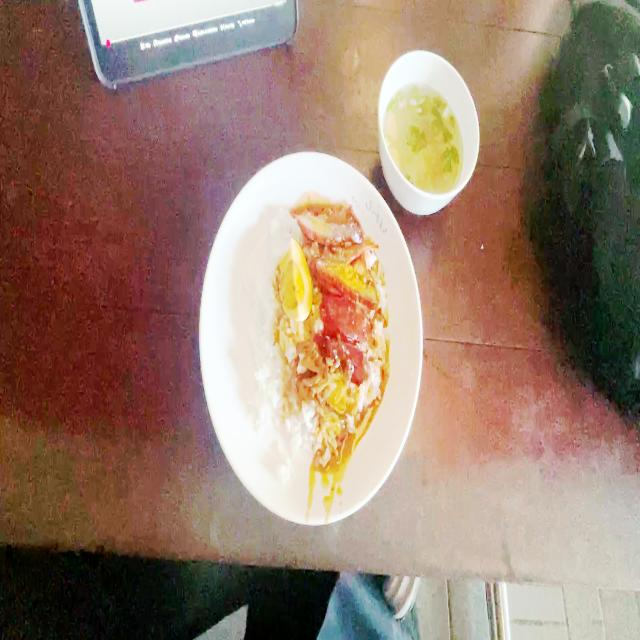red_pork_and_crispy_pork: (255, 208, 386, 444)
